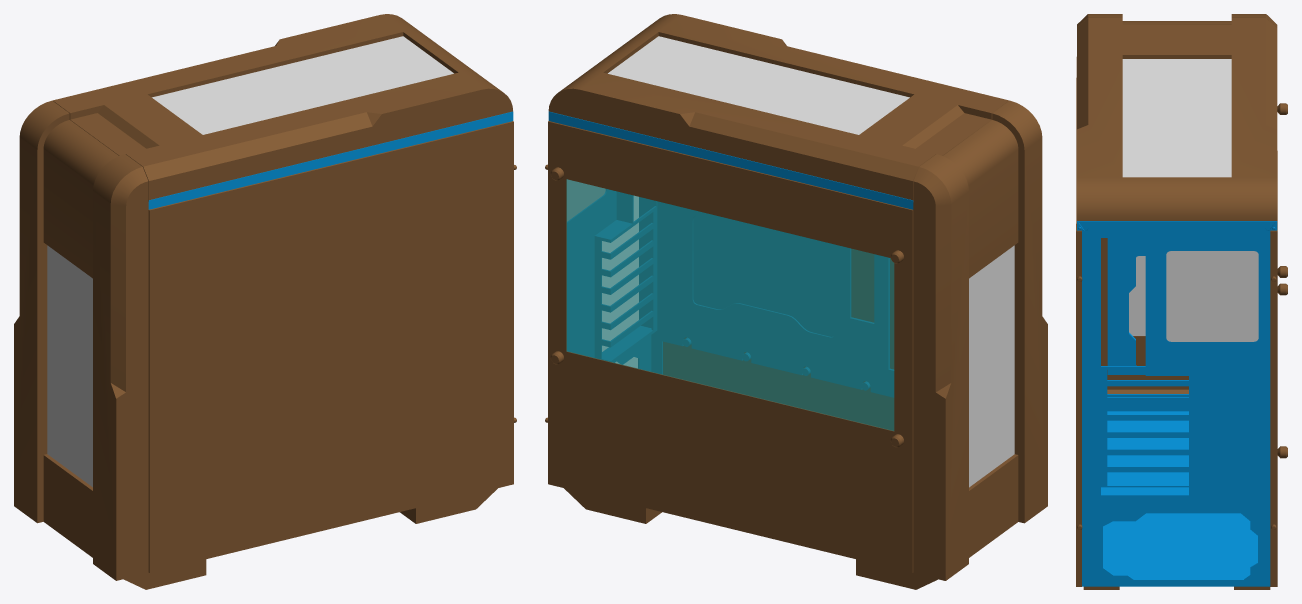
The model's file is pc_case_i_cover.fbx.
3 renders of one model, left to right at view 1: azimuth 30°, elevation 25°; view 2: azimuth 150°, elevation 25°; view 3: azimuth 270°, elevation 25°, orthographic.
Visible parts, largest first — view 1: pc_case_i_cover, pc_case_i_body; view 2: pc_case_i_cover_door, pc_case_i_cover, pc_case_i_body, pc_case_i_wire; view 3: pc_case_i_body, pc_case_i_cover, pc_case_i_wire, pc_case_i_cover_door.
Part boxes in pixels (x1=…): pc_case_i_cover: x1=14, y1=14, x2=516, y2=589; pc_case_i_body: x1=148, y1=111, x2=513, y2=209; pc_case_i_cover_door: x1=545, y1=121, x2=913, y2=572; pc_case_i_cover: x1=548, y1=14, x2=1047, y2=589; pc_case_i_body: x1=548, y1=111, x2=913, y2=397; pc_case_i_wire: x1=567, y1=179, x2=605, y2=221; pc_case_i_body: x1=1077, y1=221, x2=1277, y2=586; pc_case_i_cover: x1=1076, y1=14, x2=1277, y2=589; pc_case_i_wire: x1=1166, y1=251, x2=1258, y2=341; pc_case_i_cover_door: x1=1270, y1=103, x2=1287, y2=586.
Bounding box in the file's own units: 49.62 × 49.82 × 23.1.
